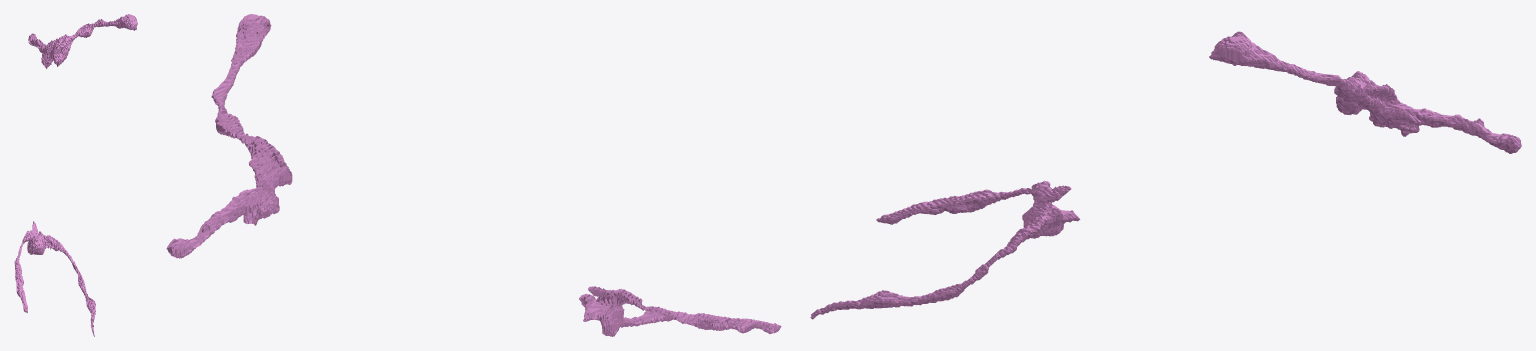
The model's file is SVV_ADER.gltf.
The picture shows the model from 3 angles, left to right: view 1: azimuth 30°, elevation 25°; view 2: azimuth 150°, elevation 25°; view 3: azimuth 270°, elevation 25°; orthographic projection. The views are drawn at different scales.
Visible parts, largest first — view 1: ADER; view 2: ADER; view 3: ADER.
Part boxes in pixels (<box>): ADER: <box>14,14,137,336</box>; ADER: <box>166,14,781,336</box>; ADER: <box>810,31,1521,319</box>.
Size of the model in its own units: 137417 by 137832 by 212297.
